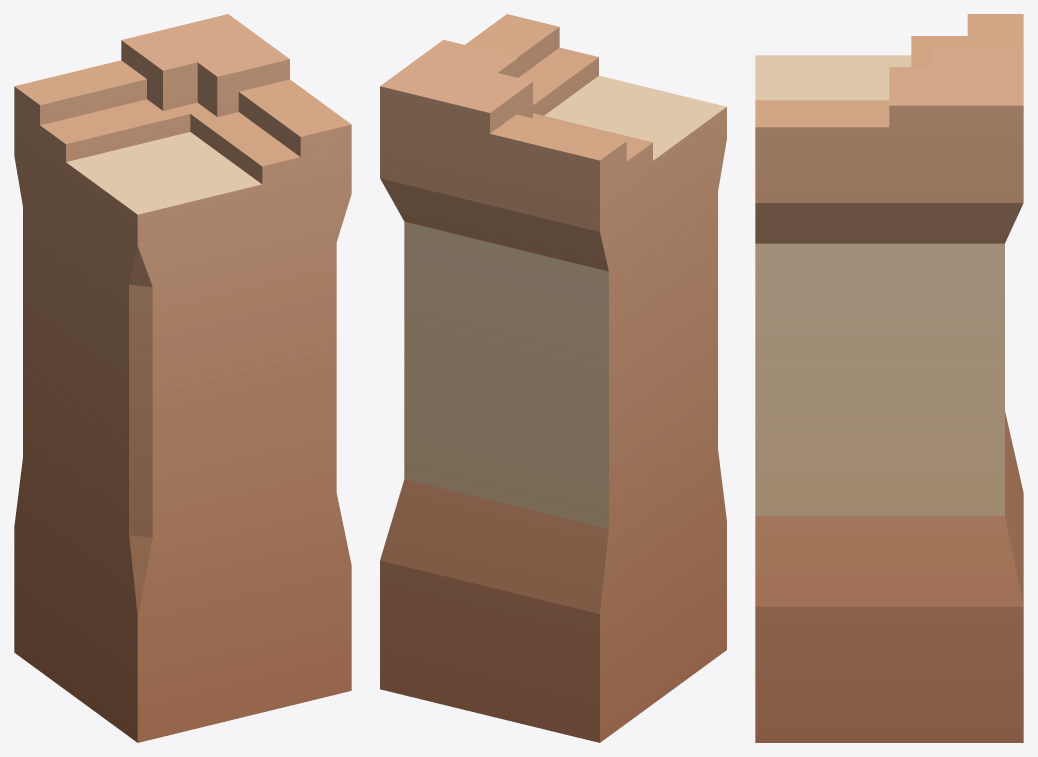
File: wall-narrow-corner.obj
3 renders of one model, left to right at view 1: azimuth 30°, elevation 25°; view 2: azimuth 150°, elevation 25°; view 3: azimuth 270°, elevation 25°, orthographic. The views are drawn at different scales.
Parts seen in each view (by area): view 1: wall-narrow-corner; view 2: wall-narrow-corner; view 3: wall-narrow-corner.
Boxes of the visible parts, x1=… form: wall-narrow-corner: x1=14, y1=14, x2=351, y2=742; wall-narrow-corner: x1=380, y1=14, x2=726, y2=742; wall-narrow-corner: x1=755, y1=14, x2=1023, y2=742.
Bounding box in the file's own units: 0.5 × 1.31 × 0.5.
1 material, 1 textured.
